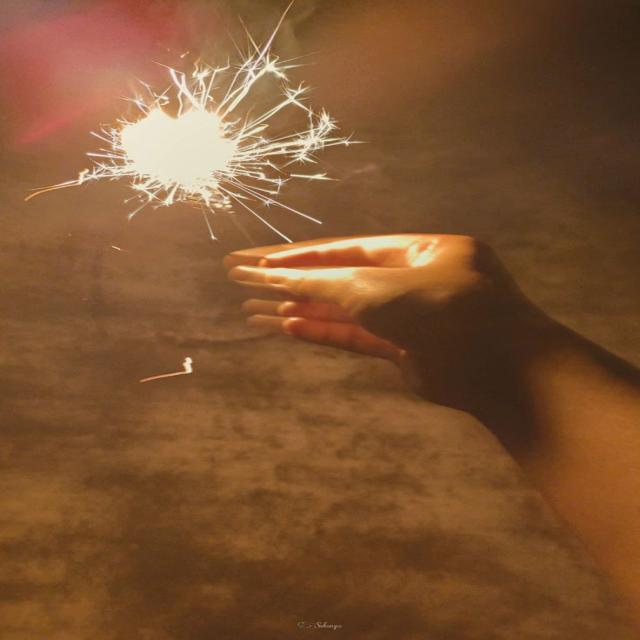fire: (121, 107, 239, 194)
